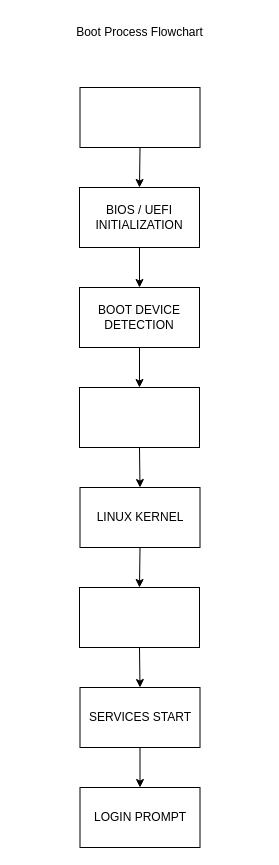
Some shapes in this 279 by 865 pixel diagram are drawn without their labels. Each missing label, with the centre of its shape:
BOOT LOADER (GRUD): the point at 139,417
init/systemd: the point at 139,617
POWER ON: the point at 139,117
